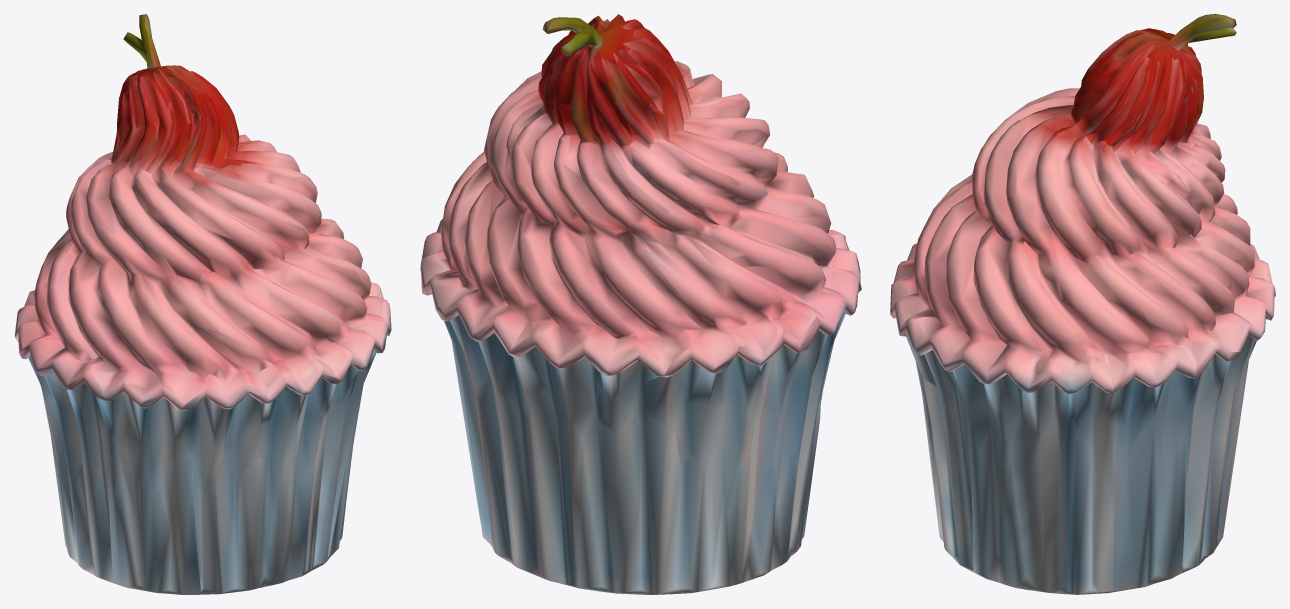
Rendered from cupcake.glb.
3 renders of one model, left to right at view 1: azimuth 30°, elevation 25°; view 2: azimuth 150°, elevation 25°; view 3: azimuth 270°, elevation 25°, orthographic. The views are drawn at different scales.
Visible parts, largest first — view 1: node_0; view 2: node_0; view 3: node_0.
Part boxes in pixels (x1=…): node_0: x1=14, y1=14, x2=391, y2=594; node_0: x1=420, y1=14, x2=861, y2=594; node_0: x1=890, y1=14, x2=1275, y2=594.
Bounding box in the file's own units: 0.2076 × 0.2865 × 0.1924.
1 material, 1 textured.
